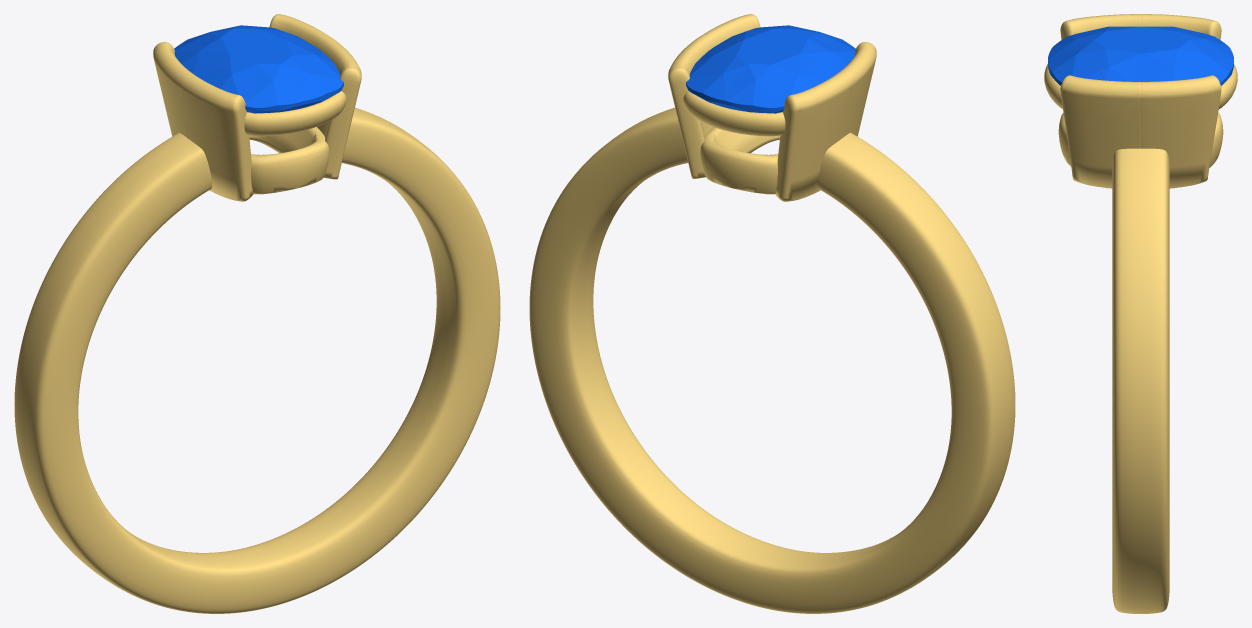
The model's file is bluesapphire-cushion-yellowgold-halfmoonbezel-straightband-nosidestones.glb.
3 views of the same model, side by side, from view 1: azimuth 30°, elevation 25°; view 2: azimuth 150°, elevation 25°; view 3: azimuth 270°, elevation 25° (orthographic).
Visible parts, largest first — view 1: metal, stone; view 2: metal, stone; view 3: metal, stone.
Part boxes in pixels (x1=…): metal: x1=14, y1=14, x2=500, y2=613; stone: x1=174, y1=25, x2=343, y2=113; metal: x1=529, y1=14, x2=1015, y2=613; stone: x1=686, y1=25, x2=855, y2=113; metal: x1=1044, y1=14, x2=1237, y2=613; stone: x1=1048, y1=26, x2=1233, y2=85.
Size of the model in its own units: 20.49 by 23.24 by 7.42.
